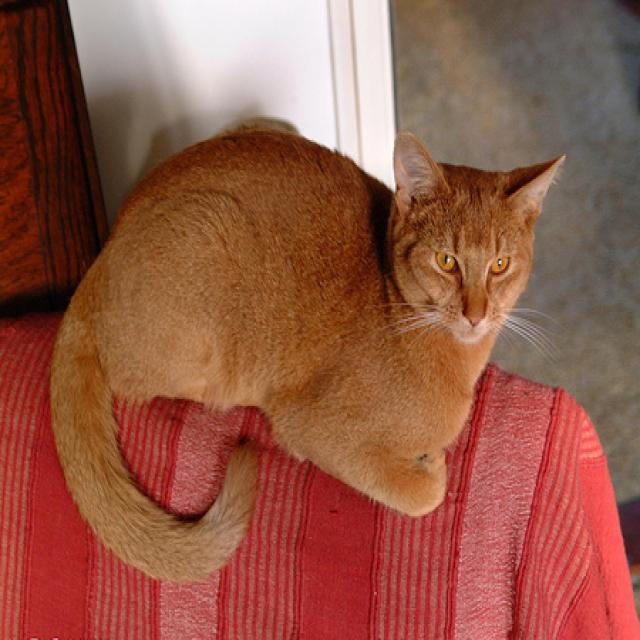Abyssinian: (47, 120, 570, 582)
